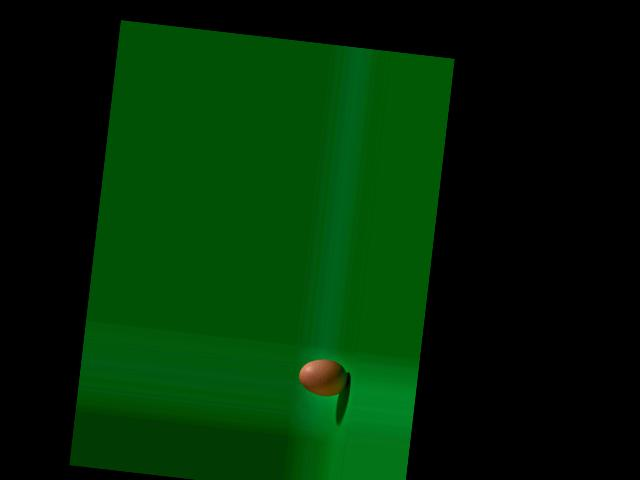egg: (297, 356, 350, 399)
